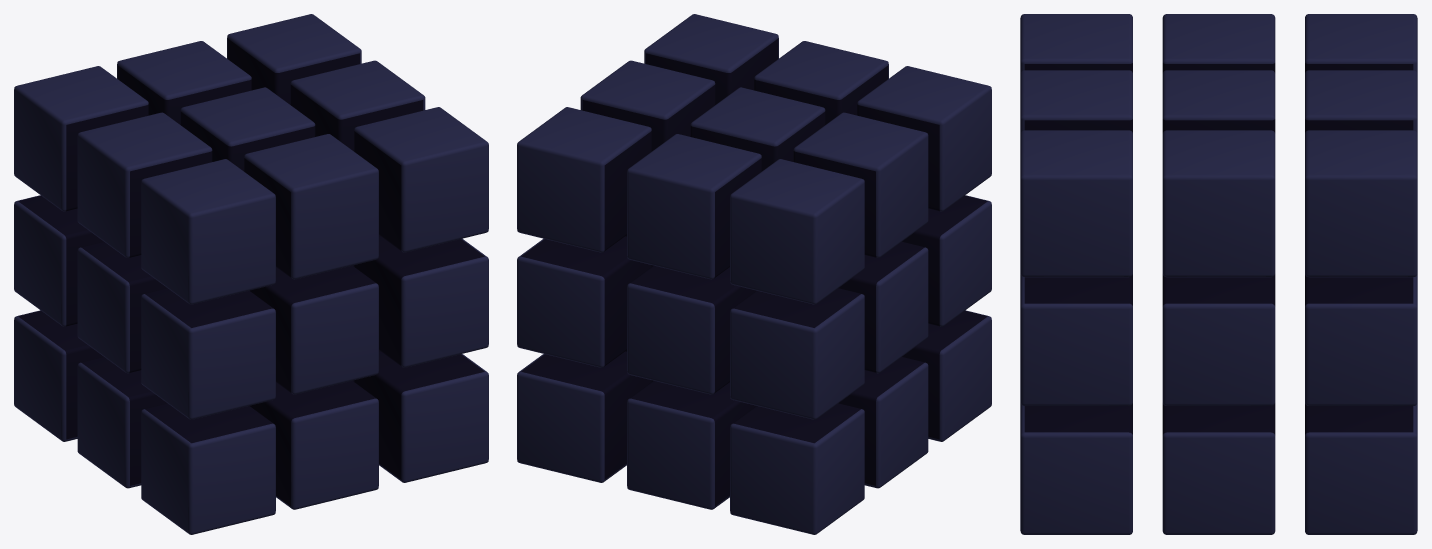
Rendered from FileModel.dae.
3 renders of one model, left to right at view 1: azimuth 30°, elevation 25°; view 2: azimuth 150°, elevation 25°; view 3: azimuth 270°, elevation 25°, orthographic. The views are drawn at different scales.
Parts seen in each view (by area): view 1: Cubes; view 2: Cubes; view 3: Cubes.
Boxes of the visible parts, left/top/right/bottom form: Cubes: left=14, top=14, right=488, bottom=534; Cubes: left=517, top=14, right=991, bottom=534; Cubes: left=1020, top=14, right=1417, bottom=534.
Bounding box in the file's own units: 1.07 × 1.09 × 1.09.
